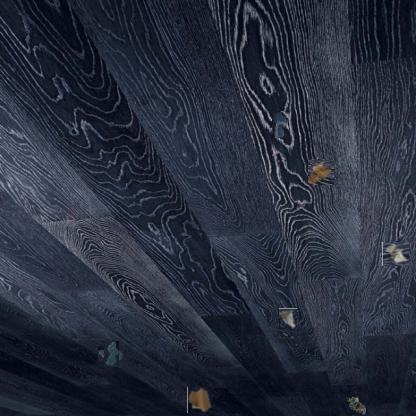dirty: (308, 159, 334, 185), (383, 242, 409, 267), (187, 388, 213, 413), (279, 309, 298, 329), (346, 397, 366, 415)
liquid: (271, 110, 289, 138), (100, 344, 122, 364)
